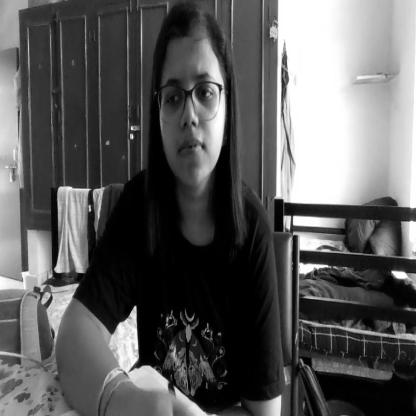Normal: (154, 4, 231, 194)
